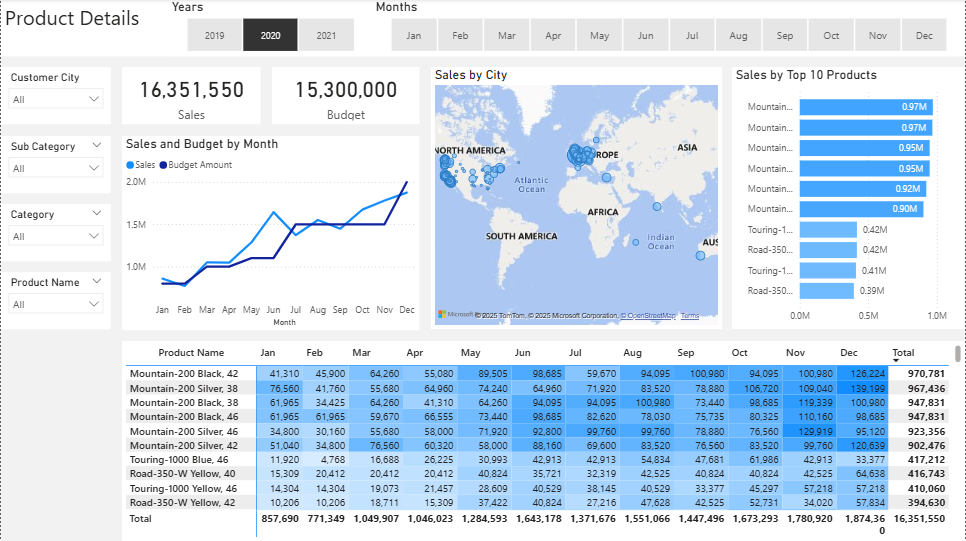

Layout of this report page (visuals, bound fields, positions):
{"tool":"powerbi","page":{"name":"Product Details","canvas":[1280,720],"ordinal":2},"visuals":[{"type":"textbox","box":[0,0,1280.5,76.1],"z":0},{"type":"slicer","fields":{"Values":["DIM_Customers.Customer City"]},"box":[0,90.7,146.3,76.1],"z":1000},{"type":"slicer","fields":{"Values":["DIM_Products.Sub Category"]},"box":[0,181.5,146.3,76.1],"z":2000},{"type":"slicer","fields":{"Values":["DIM_Products.Product Category"]},"box":[0,272.2,146.3,76.1],"z":3000},{"type":"slicer","title":"Years","fields":{"Values":["DIM_Calendar.Year"]},"box":[222.4,0,270.7,76.1],"z":4000},{"type":"slicer","title":"Months","fields":{"Values":["DIM_Calendar.MonthShort"]},"box":[493.2,0,787.3,76.1],"z":5000},{"type":"pivotTable","fields":{"Values":["_Measures.Sales"],"Columns":["DIM_Calendar.MonthShort"],"Rows":["DIM_Products.Product Name"]},"box":[161,453.7,1119.5,266.3],"z":6000},{"type":"slicer","fields":{"Values":["DIM_Products.Product Name"]},"box":[0,362.9,146.3,76.1],"z":7000},{"type":"card","fields":{"Values":["_Measures.Sales"]},"box":[161,90.7,184.4,76.1],"z":8000},{"type":"card","fields":{"Values":["_Measures.Budget Amount"]},"box":[360,90.7,196.1,76.1],"z":9000},{"type":"lineChart","title":"Sales and Budget by Month","fields":{"Y":["_Measures.Sales","_Measures.Budget Amount"],"Category":["DIM_Calendar.MonthShort"]},"box":[161,181.5,395.1,257.6],"z":10000},{"type":"map","title":"Sales by City","fields":{"Category":["DIM_Customers.Customer City"],"Size":["_Measures.Sales"]},"box":[570.7,90.7,386.3,348.3],"z":11000},{"type":"barChart","title":"Sales by Top 10 Products","fields":{"Y":["_Measures.Sales"],"Category":["DIM_Products.Product Name"]},"box":[971.7,90.7,308.8,348.3],"z":12000}]}

Visuals, with their boxes in screenshot pixels (x1, y1, x2, y2), scaled from the page's 1280x720 canvas onto the 966x541 screenshot:
textbox: crop(0, 0, 965, 57)
slicer - DIM_Customers.Customer City: crop(0, 68, 110, 125)
slicer - DIM_Products.Sub Category: crop(0, 136, 110, 194)
slicer - DIM_Products.Product Category: crop(0, 205, 110, 262)
"Years" slicer: crop(168, 0, 372, 57)
"Months" slicer: crop(372, 0, 965, 57)
pivotTable - _Measures.Sales x DIM_Calendar.MonthShort: crop(122, 341, 965, 540)
slicer - DIM_Products.Product Name: crop(0, 273, 110, 330)
card - _Measures.Sales: crop(122, 68, 261, 125)
card - _Measures.Budget Amount: crop(272, 68, 420, 125)
"Sales and Budget by Month" lineChart: crop(122, 136, 420, 330)
"Sales by City" map: crop(431, 68, 722, 330)
"Sales by Top 10 Products" barChart: crop(733, 68, 965, 330)
